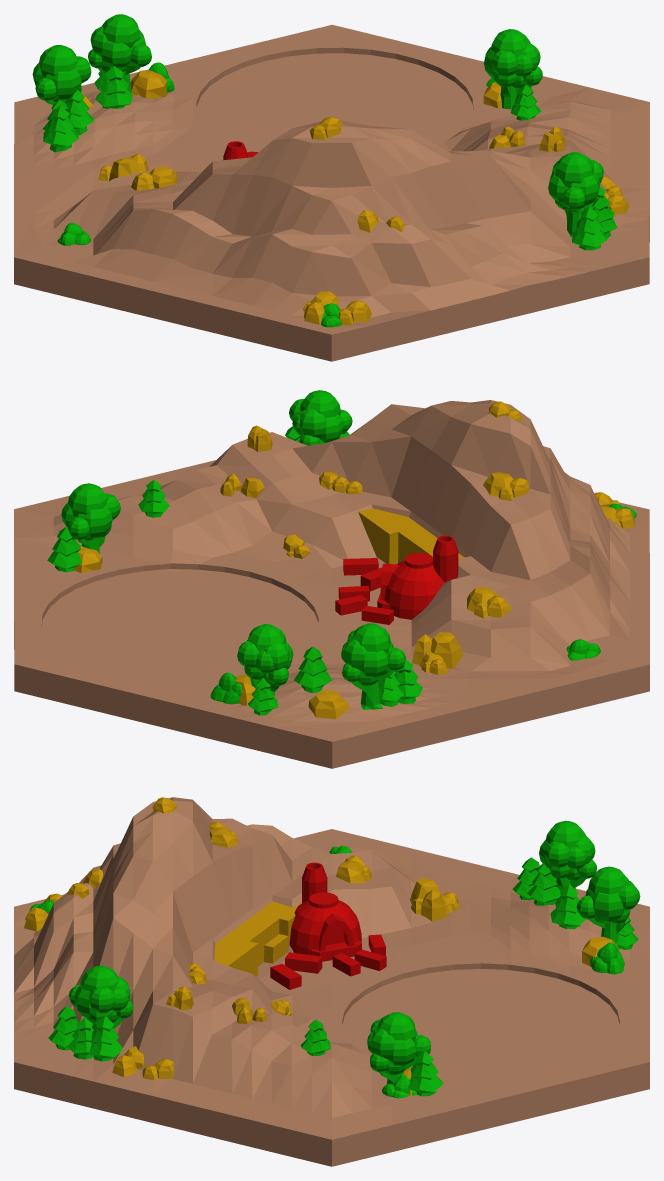
The model's file is brick.glb.
The picture shows the model from 3 angles, top to bottom: view 1: azimuth 30°, elevation 25°; view 2: azimuth 150°, elevation 25°; view 3: azimuth 270°, elevation 25°; orthographic projection.
Parts seen in each view (by area): view 1: brick; view 2: brick; view 3: brick.
Boxes of the visible parts, x1=… form: brick: x1=14, y1=14, x2=649, y2=361; brick: x1=14, y1=390, x2=649, y2=768; brick: x1=14, y1=797, x2=649, y2=1166.
Bounding box in the file's own units: 74 × 19.08 × 63.99.
